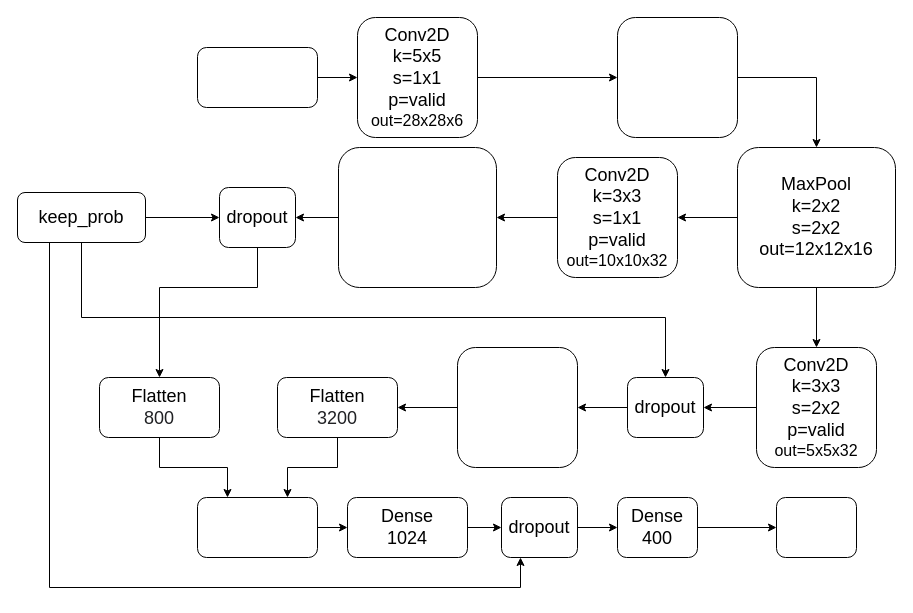
Image size: 913x613. Some labels were removed from this diagram. The shapes that lost their labels are listed below. From the top down, each one's box as (x1, y1, x2, y2) in pixels, then its label:
(196, 46, 318, 108): Input 32*32*1
(616, 16, 738, 138): Conv2D k=5x5 s=1x1 p=valid out=24x24x16
(338, 146, 496, 288): MaxPool k=2x2 s=2x2 out=5x5x32
(456, 346, 578, 468): Conv2D k=1x1 s=1x1 p=valid out=5x5x128
(196, 496, 318, 558): Concat 4000
(776, 496, 856, 558): Output 43
